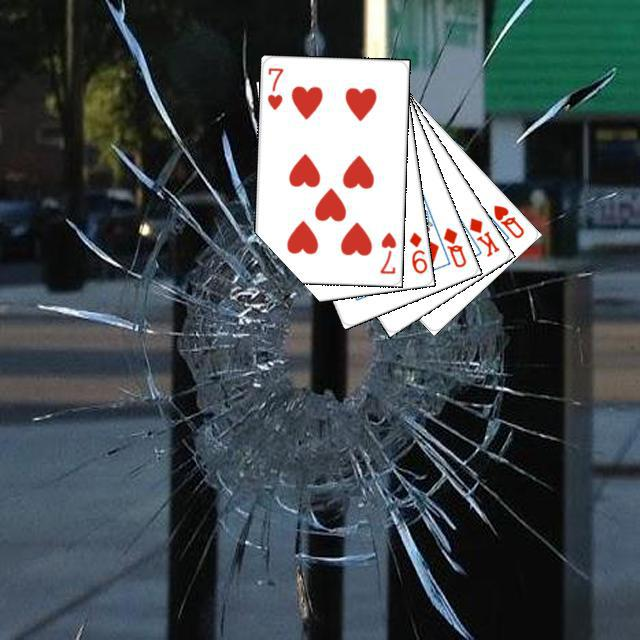7h: (262, 63, 285, 111), (375, 228, 398, 275)
9d: (404, 227, 428, 275)
Kd: (464, 213, 501, 259)
Qd: (438, 222, 468, 269)
Qh: (488, 200, 526, 240)
